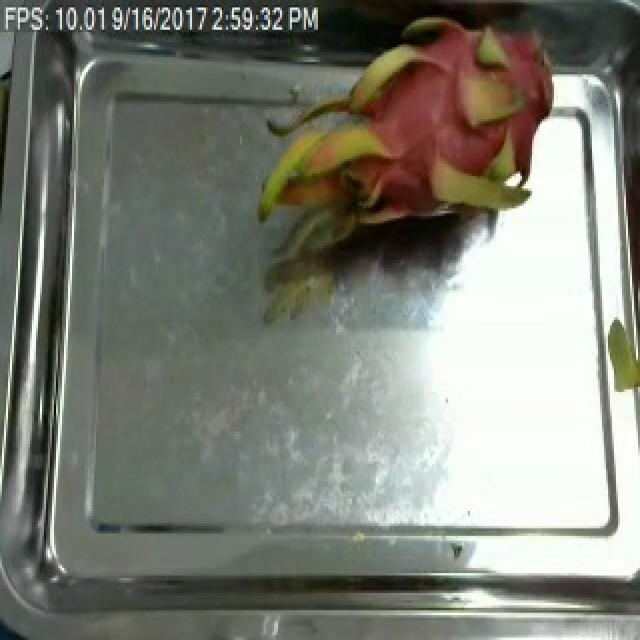fruit: (240, 0, 576, 283)
